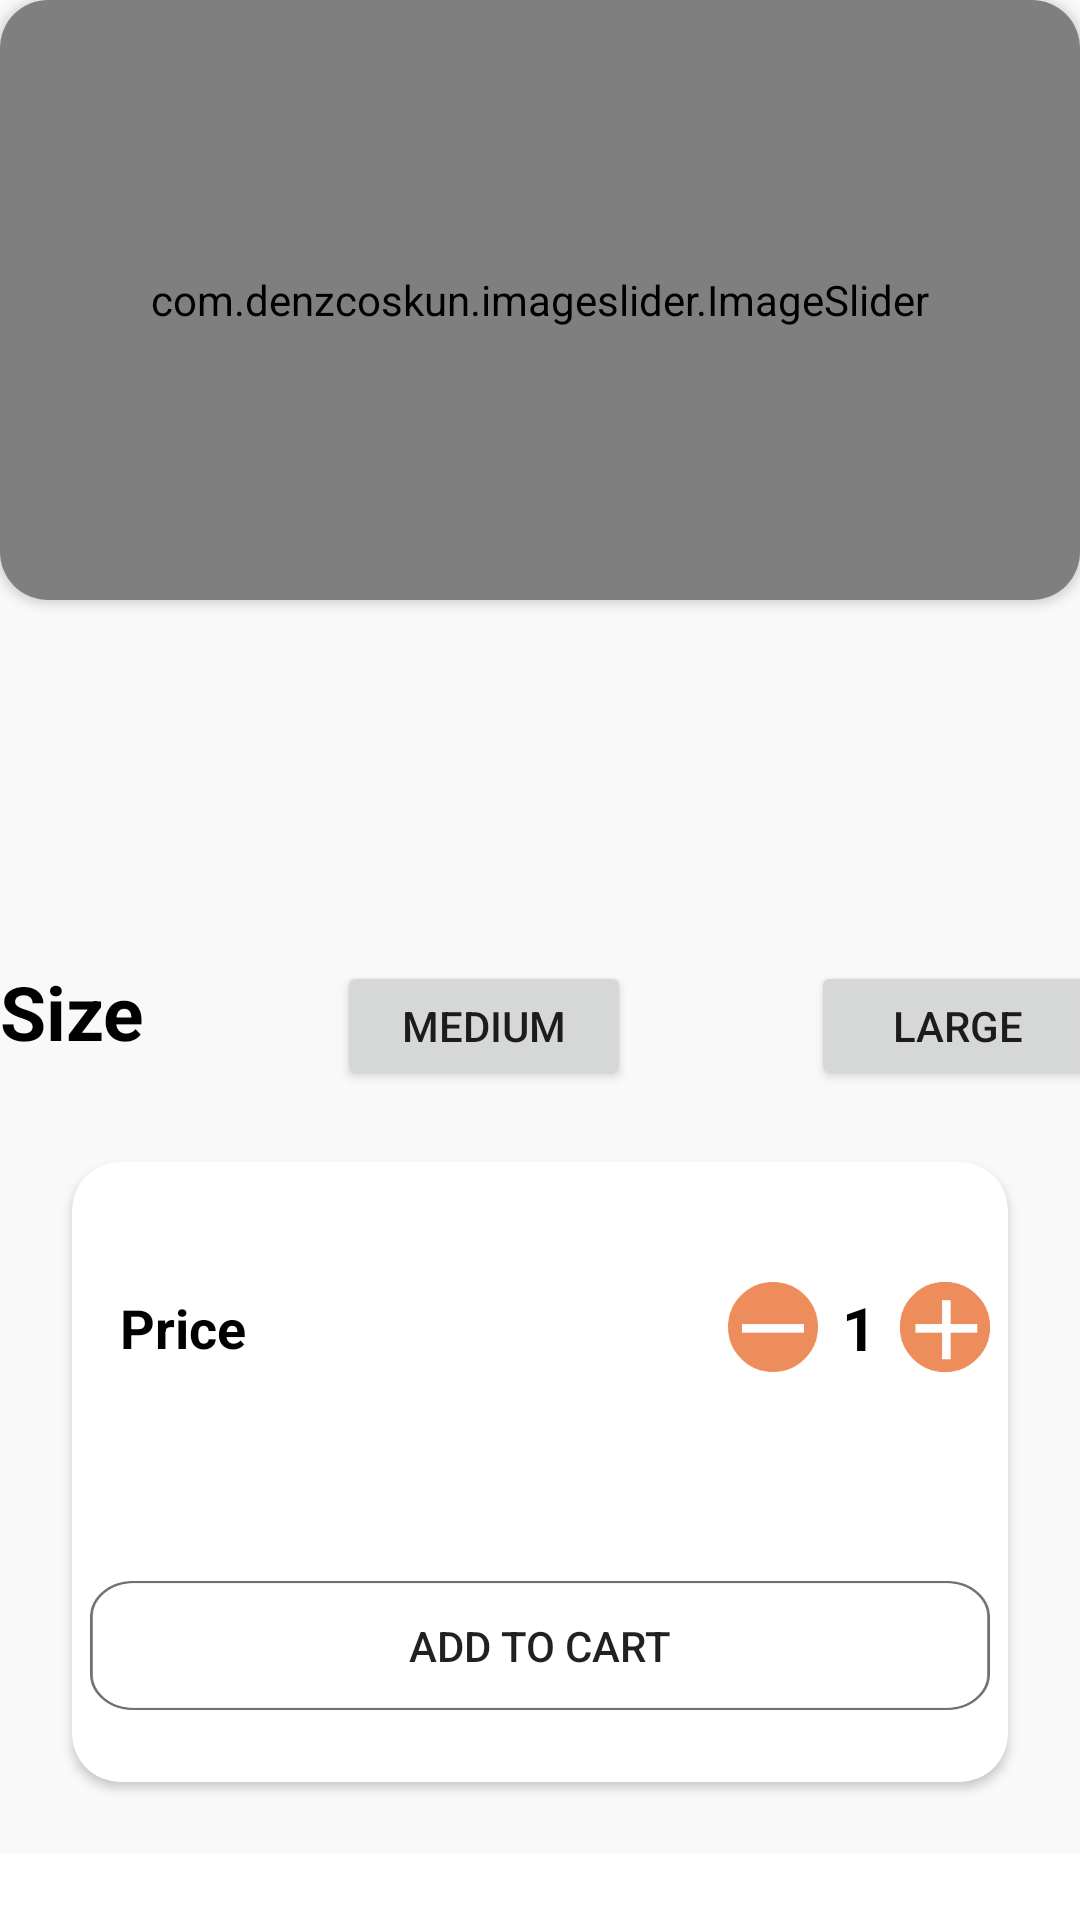

Screen size 1080 x 1920. Icon name, then its center in pixels as point (x, y):
minuscart: point (773, 1327)
pluscart: point (945, 1327)
